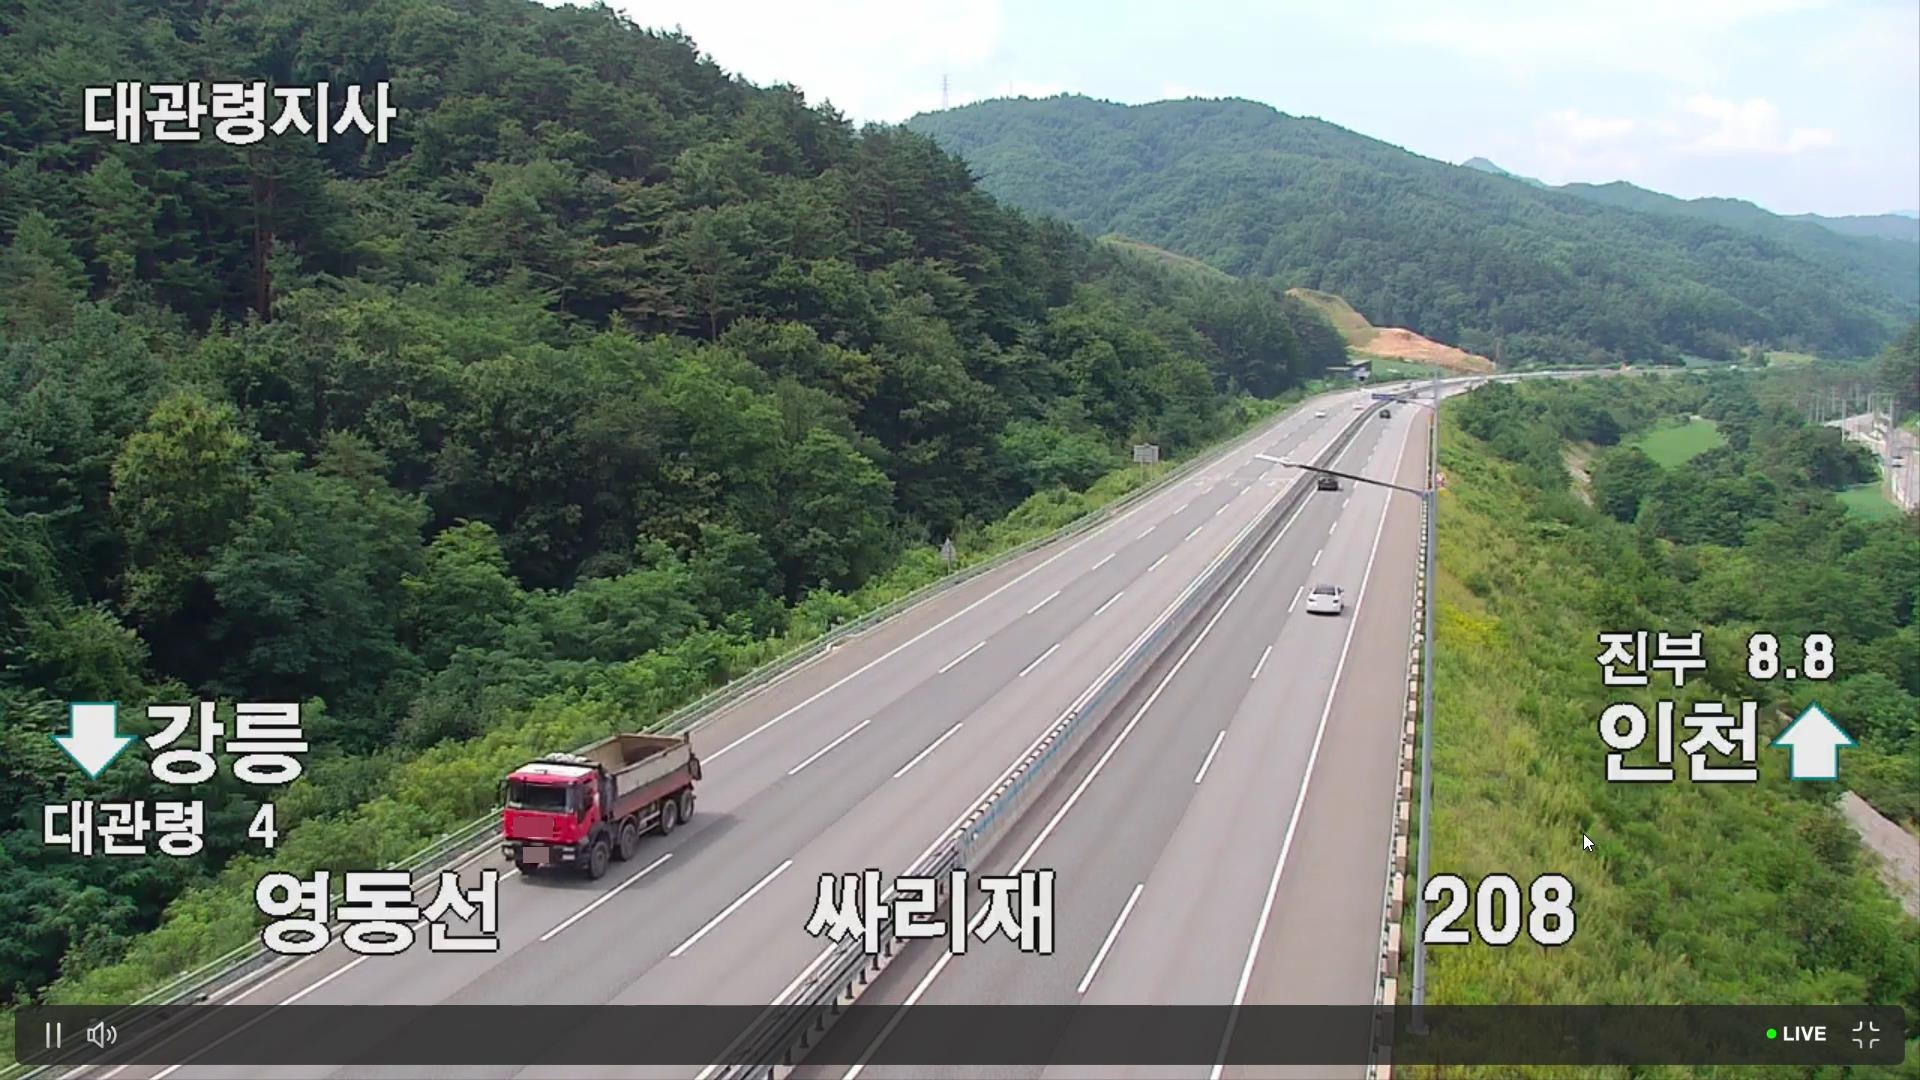정상차량: (495, 728, 703, 880)
